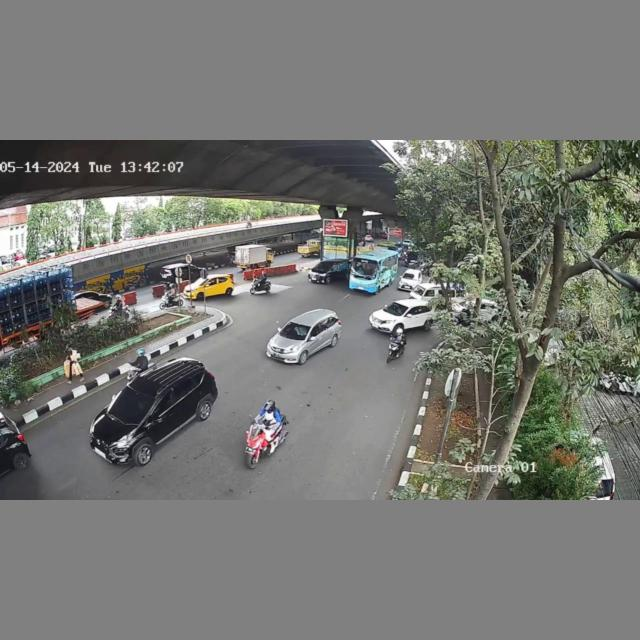windshield: (111, 384, 153, 422), (276, 322, 315, 340), (384, 301, 408, 315)
